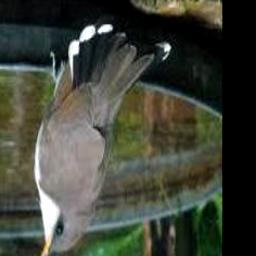Cuckoo: (29, 24, 171, 256)
